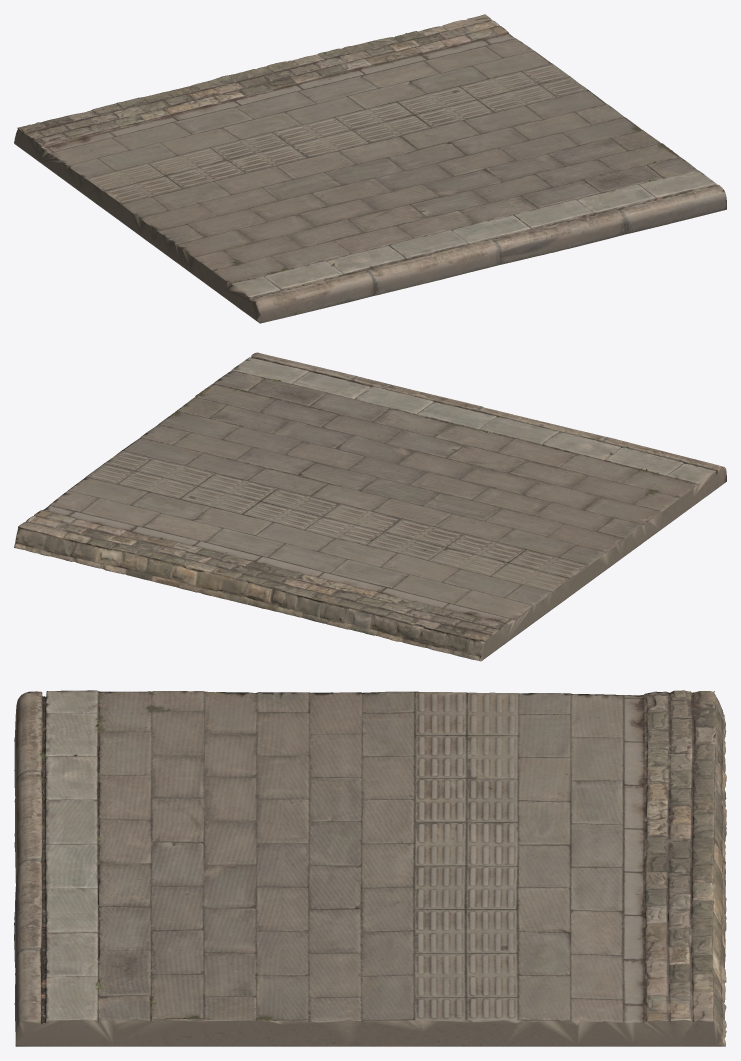
File: PX_Sidewalk_02_LOD0.fbx
The picture shows the model from 3 angles, top to bottom: view 1: azimuth 30°, elevation 25°; view 2: azimuth 150°, elevation 25°; view 3: azimuth 270°, elevation 25°; orthographic projection. The views are drawn at different scales.
Visible parts, largest first — view 1: PX_Sidewalk_02_LOD0; view 2: PX_Sidewalk_02_LOD0; view 3: PX_Sidewalk_02_LOD0.
Part boxes in pixels (x1=…): PX_Sidewalk_02_LOD0: x1=14, y1=14, x2=726, y2=323; PX_Sidewalk_02_LOD0: x1=14, y1=352, x2=726, y2=661; PX_Sidewalk_02_LOD0: x1=14, y1=690, x2=726, y2=1046.
Size of the model in its own units: 271 by 12.09 by 249.
